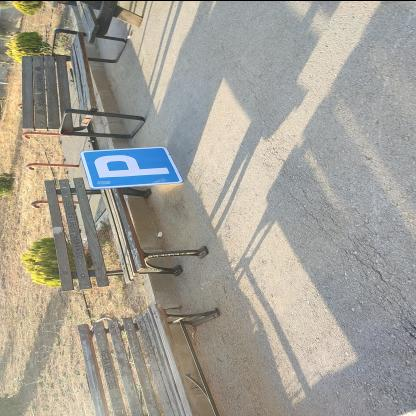Parking-Sign: (81, 146, 191, 190)
